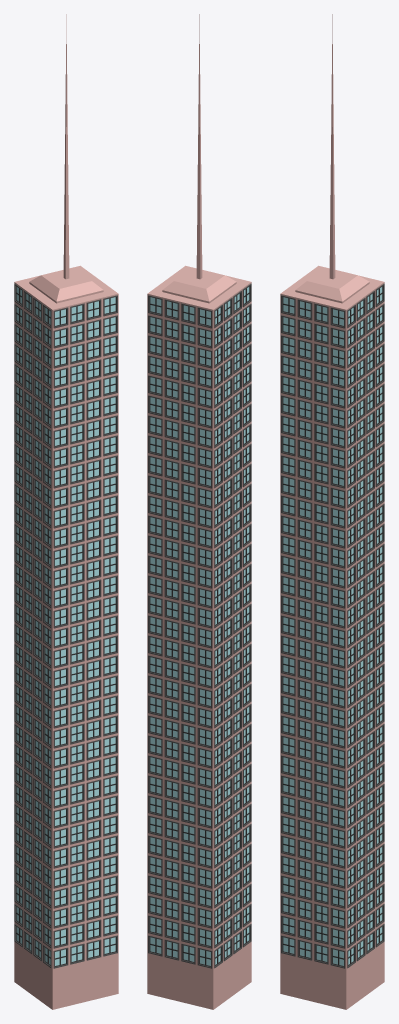
File: Scraper Tan.fbx
3 renders of one model, left to right at view 1: azimuth 30°, elevation 25°; view 2: azimuth 150°, elevation 25°; view 3: azimuth 330°, elevation 25°, orthographic.
Parts seen in each view (by area): view 1: Cube.001; view 2: Cube.001; view 3: Cube.001.
Part boxes in pixels (bbox=[...]): Cube.001: bbox=[14, 14, 118, 1009]; Cube.001: bbox=[147, 14, 251, 1009]; Cube.001: bbox=[280, 14, 384, 1009].
Size of the model in its own units: 1332 by 18371 by 1332.
